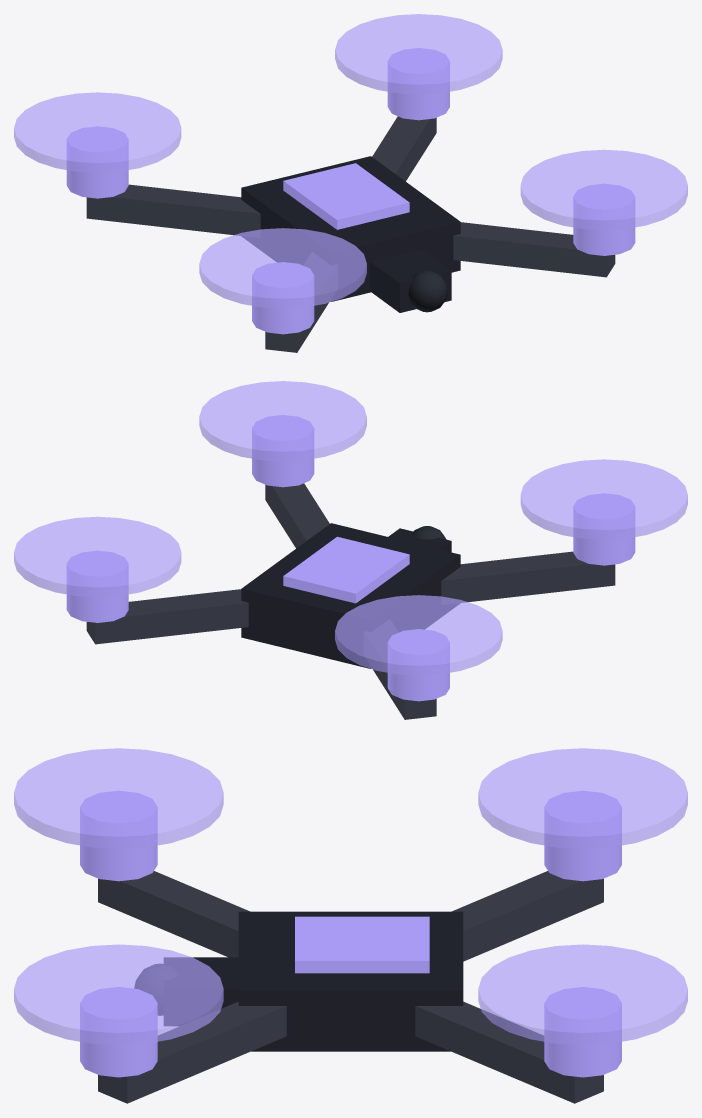
File: mission-drone-BG4pDKrg.glb
The picture shows the model from 3 angles, top to bottom: view 1: azimuth 30°, elevation 25°; view 2: azimuth 150°, elevation 25°; view 3: azimuth 270°, elevation 25°; orthographic projection. The views are drawn at different scales.
Parts seen in each view (by area): view 1: dark center body, front-right rear-left arm, rotor disc 1, rotor disc 4, rotor disc 2, rotor disc 3, primary accent canopy, front-left rear-right arm, rotor hub 3, rotor hub 4, rotor hub 2, rotor hub 1 (+2 smaller); view 2: dark center body, front-left rear-right arm, rotor disc 3, rotor disc 2, rotor disc 4, rotor disc 1, primary accent canopy, front-right rear-left arm, rotor hub 1, rotor hub 2, rotor hub 4, rotor hub 3 (+1 smaller); view 3: dark center body, rotor disc 1, rotor disc 3, rotor disc 2, rotor disc 4, front-right rear-left arm, front-left rear-right arm, primary accent canopy, rotor hub 1, rotor hub 3, rotor hub 2, rotor hub 4 (+2 smaller).
Part boxes in pixels (x1,y1,x2,y2): dark center body: (241, 156, 460, 301); front-right rear-left arm: (86, 184, 615, 277); rotor disc 1: (520, 149, 687, 230); rotor disc 4: (14, 92, 181, 172); rotor disc 2: (199, 228, 366, 308); rotor disc 3: (335, 14, 502, 94); primary accent canopy: (283, 163, 409, 229); front-left rear-right arm: (265, 116, 436, 352); rotor hub 3: (387, 48, 449, 120); rotor hub 4: (66, 126, 128, 198); rotor hub 2: (252, 262, 314, 334); rotor hub 1: (573, 184, 635, 255); dark center body: (241, 523, 460, 668); front-left rear-right arm: (86, 551, 615, 644); rotor disc 3: (14, 516, 181, 597); rotor disc 2: (520, 459, 687, 539); rotor disc 4: (335, 595, 502, 675); rotor disc 1: (199, 381, 366, 461); primary accent canopy: (283, 536, 409, 603); front-right rear-left arm: (265, 483, 436, 719); rotor hub 1: (252, 415, 314, 487); rotor hub 2: (573, 493, 635, 565); rotor hub 4: (387, 629, 449, 701); rotor hub 3: (66, 551, 128, 622); dark center body: (238, 911, 463, 1051); rotor disc 1: (14, 944, 223, 1045); rotor disc 3: (478, 944, 687, 1045); rotor disc 2: (14, 748, 223, 848); rotor disc 4: (478, 748, 687, 848); front-right rear-left arm: (98, 871, 603, 1103); front-left rear-right arm: (98, 871, 603, 1103); primary accent canopy: (295, 916, 429, 973); rotor hub 1: (80, 987, 157, 1077); rotor hub 3: (544, 987, 621, 1077); rotor hub 2: (80, 791, 157, 881); rotor hub 4: (544, 791, 621, 881).
Size of the model in its own units: 0.9 by 0.181 by 0.9.
